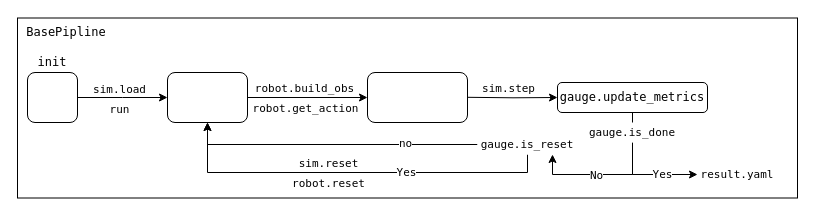
The diagram is 815 pixels wide and 215 high, and some of its shapes have lost their labels. Each missing label, with the box of its shape:
action pd_gains control_type: (366, 72, 468, 122)
sim gauge robot: (26, 72, 78, 122)
sim_data goal_data: (166, 72, 248, 122)
